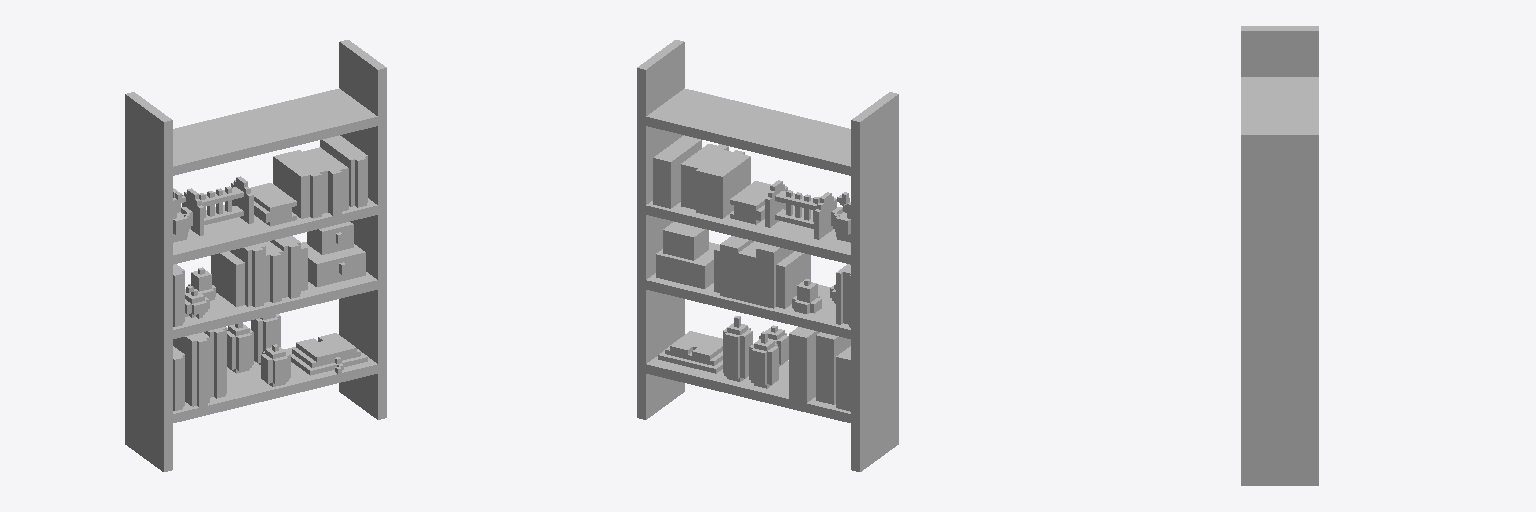
The model's file is shef_without_an_el.obj.
3 renders of one model, left to right at view 1: azimuth 30°, elevation 25°; view 2: azimuth 150°, elevation 25°; view 3: azimuth 270°, elevation 25°, orthographic.
Visible parts, largest first — view 1: object 1; view 2: object 1; view 3: object 1.
Boxes of the visible parts, x1=… form: object 1: x1=125, y1=40, x2=386, y2=471; object 1: x1=637, y1=40, x2=898, y2=471; object 1: x1=1241, y1=26, x2=1318, y2=485.
Bounding box in the file's own units: 5 × 7.5 × 1.5.